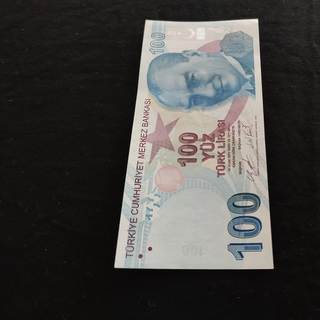100TLFront: (113, 18, 274, 271)
